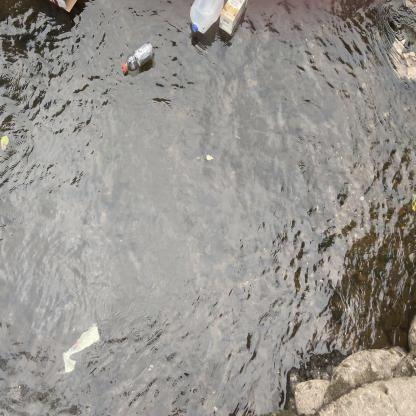Plastic: (58, 318, 105, 378), (185, 0, 226, 41), (119, 40, 156, 77)
Trash: (387, 35, 416, 84)
